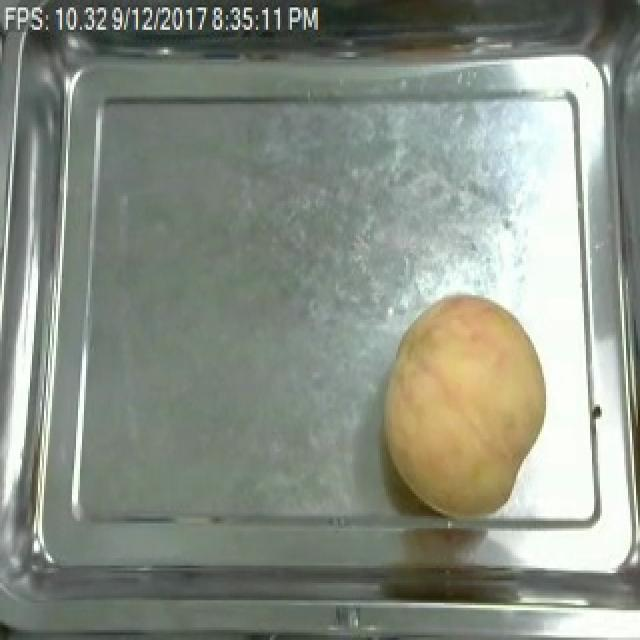Fruit: (372, 293, 554, 523)
